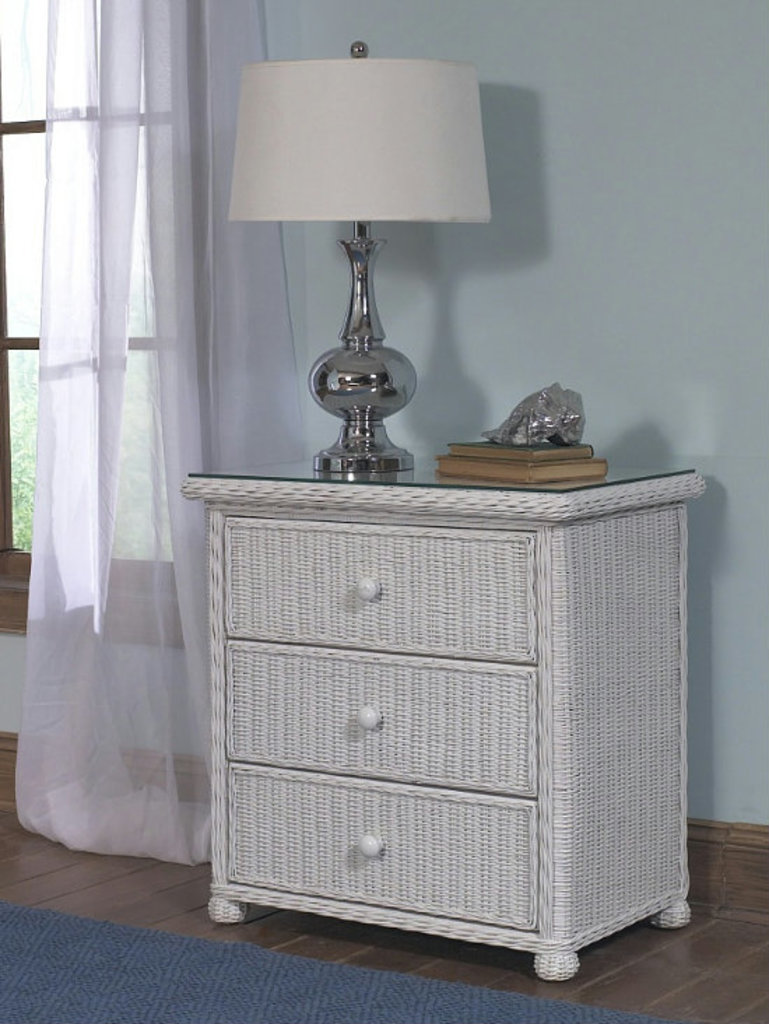cabinet door: (226, 764, 539, 930), (225, 643, 537, 795), (225, 533, 535, 651)
handle: (359, 693, 383, 738), (353, 573, 381, 603), (360, 838, 381, 865)
